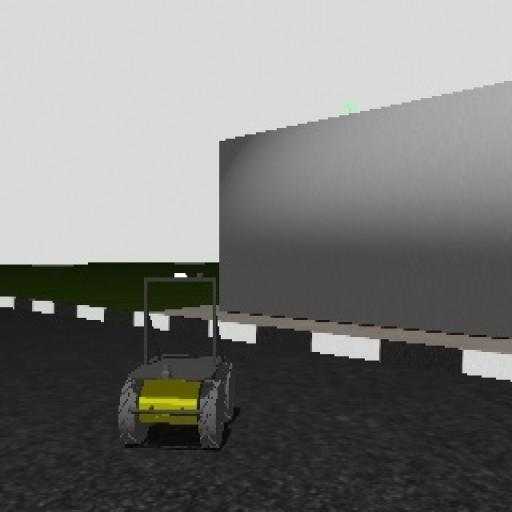huskya200: (109, 264, 242, 458)
